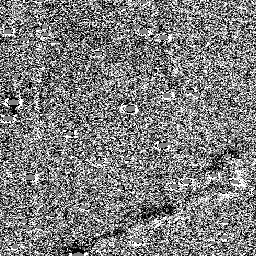LE: (128, 196, 194, 235)
